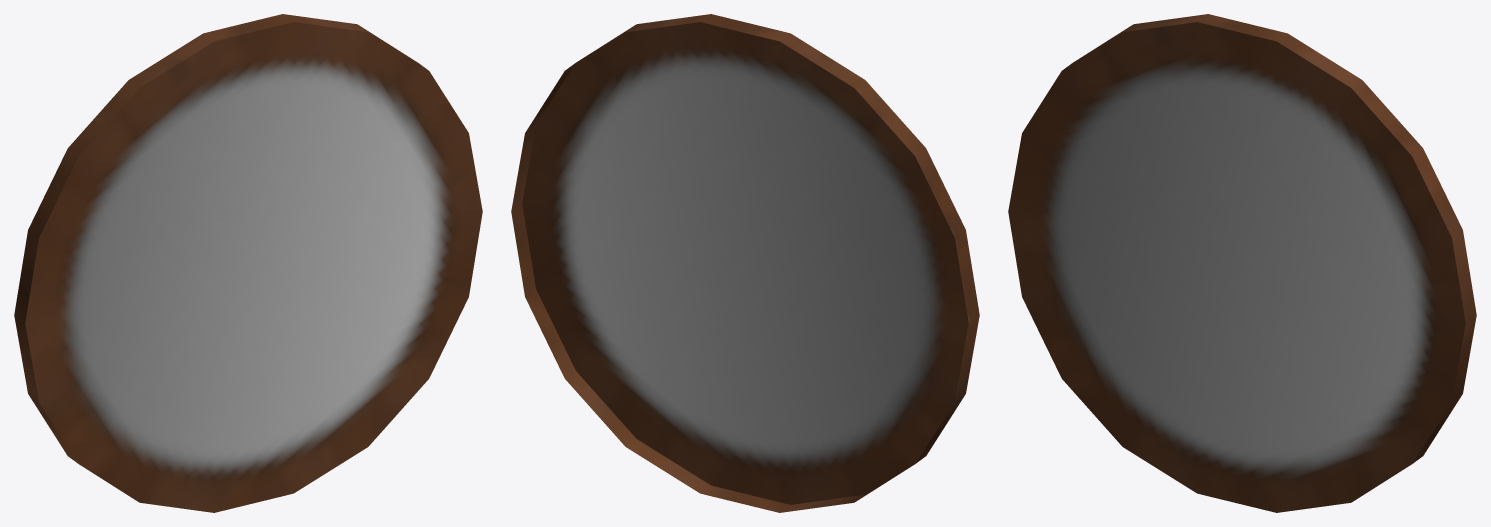
The model's file is Mirror_2.fbx.
3 views of the same model, side by side, from view 1: azimuth 30°, elevation 25°; view 2: azimuth 150°, elevation 25°; view 3: azimuth 330°, elevation 25° (orthographic).
Parts seen in each view (by area): view 1: pCylinder51; view 2: pCylinder51; view 3: pCylinder51.
Boxes of the visible parts, x1=… form: pCylinder51: x1=14, y1=14, x2=482, y2=512; pCylinder51: x1=511, y1=14, x2=979, y2=512; pCylinder51: x1=1008, y1=14, x2=1476, y2=512.
Size of the model in its own units: 1.2 by 1.18 by 0.05.
